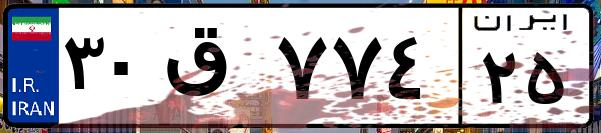0: (110, 28, 158, 98)
2: (475, 38, 525, 113)
3: (57, 26, 110, 100)
4: (385, 28, 445, 110)
5: (525, 38, 570, 115)
7: (270, 28, 330, 110), (330, 28, 385, 110)
ق: (158, 20, 270, 120)
